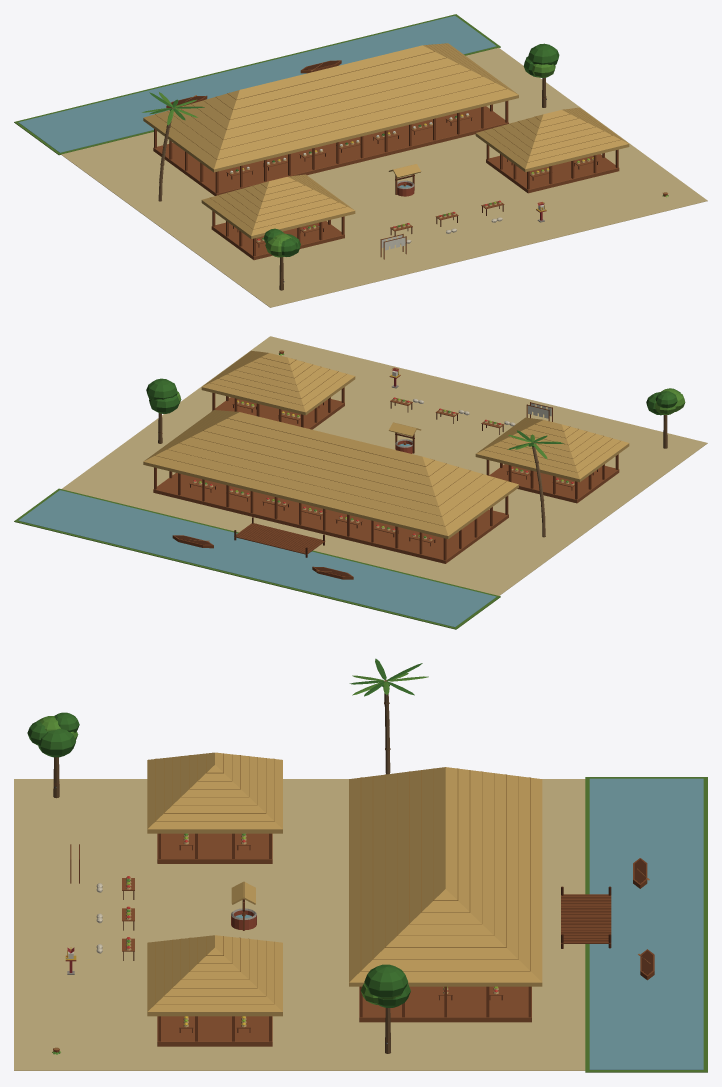
The model's file is market.glb.
3 renders of one model, top to bottom at view 1: azimuth 30°, elevation 25°; view 2: azimuth 150°, elevation 25°; view 3: azimuth 270°, elevation 25°, orthographic. The views are drawn at different scales.
Parts seen in each view (by area): view 1: body; view 2: body; view 3: body.
Boxes of the visible parts, x1,y1,x2,y2 form: body: [14, 14, 707, 307]; body: [14, 336, 707, 629]; body: [14, 658, 707, 1072].
Size of the model in its own units: 48.4 by 10.68 by 48.15.
